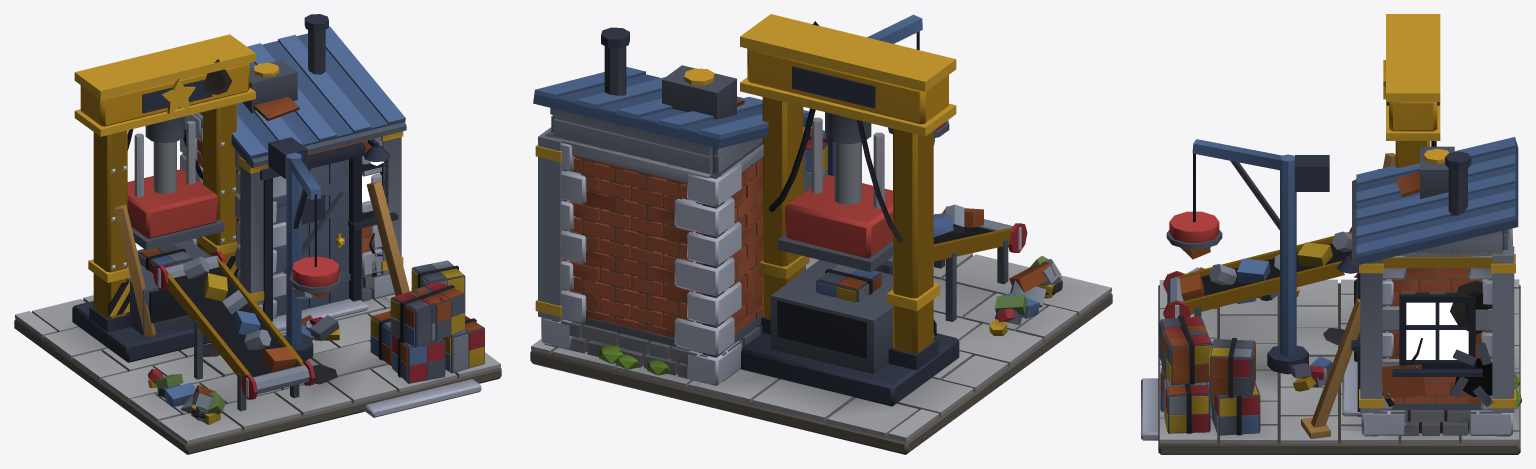
Rendered from b_presse.glb.
The picture shows the model from 3 angles, left to right: view 1: azimuth 30°, elevation 25°; view 2: azimuth 150°, elevation 25°; view 3: azimuth 270°, elevation 25°; orthographic projection. The views are drawn at different scales.
Parts seen in each view (by area): view 1: body, lv7_gold, bob_stempel, lv4_kabine, dmg2_bruch, lv4_ausbau, sway_magnet, spin_rolle, spin_rolle2, dmg1_spuren; view 2: body, lv4_kabine, lv7_gold, bob_stempel, lvmax3_kabine, lv4_ausbau, spin_rolle; view 3: body, lv7_gold, lv4_kabine, dmg2_bruch, lvmax3_kabine, lv4_ausbau, win_glow, sway_magnet, dmg1_spuren, spin_rolle.
Boxes of the visible parts, x1,y1,x2,y2 form: body: (14,14,501,454); lv7_gold: (74,34,446,347); bob_stempel: (127,121,223,250); lv4_kabine: (180,113,394,319); dmg2_bruch: (115,181,409,341); lv4_ausbau: (147,260,465,407); sway_magnet: (290,194,341,298); spin_rolle: (241,360,315,399); spin_rolle2: (153,251,226,289); dmg1_spuren: (203,59,382,276); body: (530,14,1112,454); lv4_kabine: (541,130,763,385); lv7_gold: (535,14,956,321); bob_stempel: (778,117,892,272); lvmax3_kabine: (544,131,763,385); lv4_ausbau: (989,292,1039,335); spin_rolle: (942,206,1027,252); body: (1141,102,1521,454); lv7_gold: (1159,14,1515,412); lv4_kabine: (1361,228,1512,435); dmg2_bruch: (1290,153,1493,438); lvmax3_kabine: (1365,230,1510,436); lv4_ausbau: (1209,287,1299,409); win_glow: (1406,302,1468,359); sway_magnet: (1166,153,1222,259); dmg1_spuren: (1382,281,1492,407); spin_rolle: (1163,271,1190,318).
Bounding box in the file's own units: 5.55 × 4.71 × 5.49.
